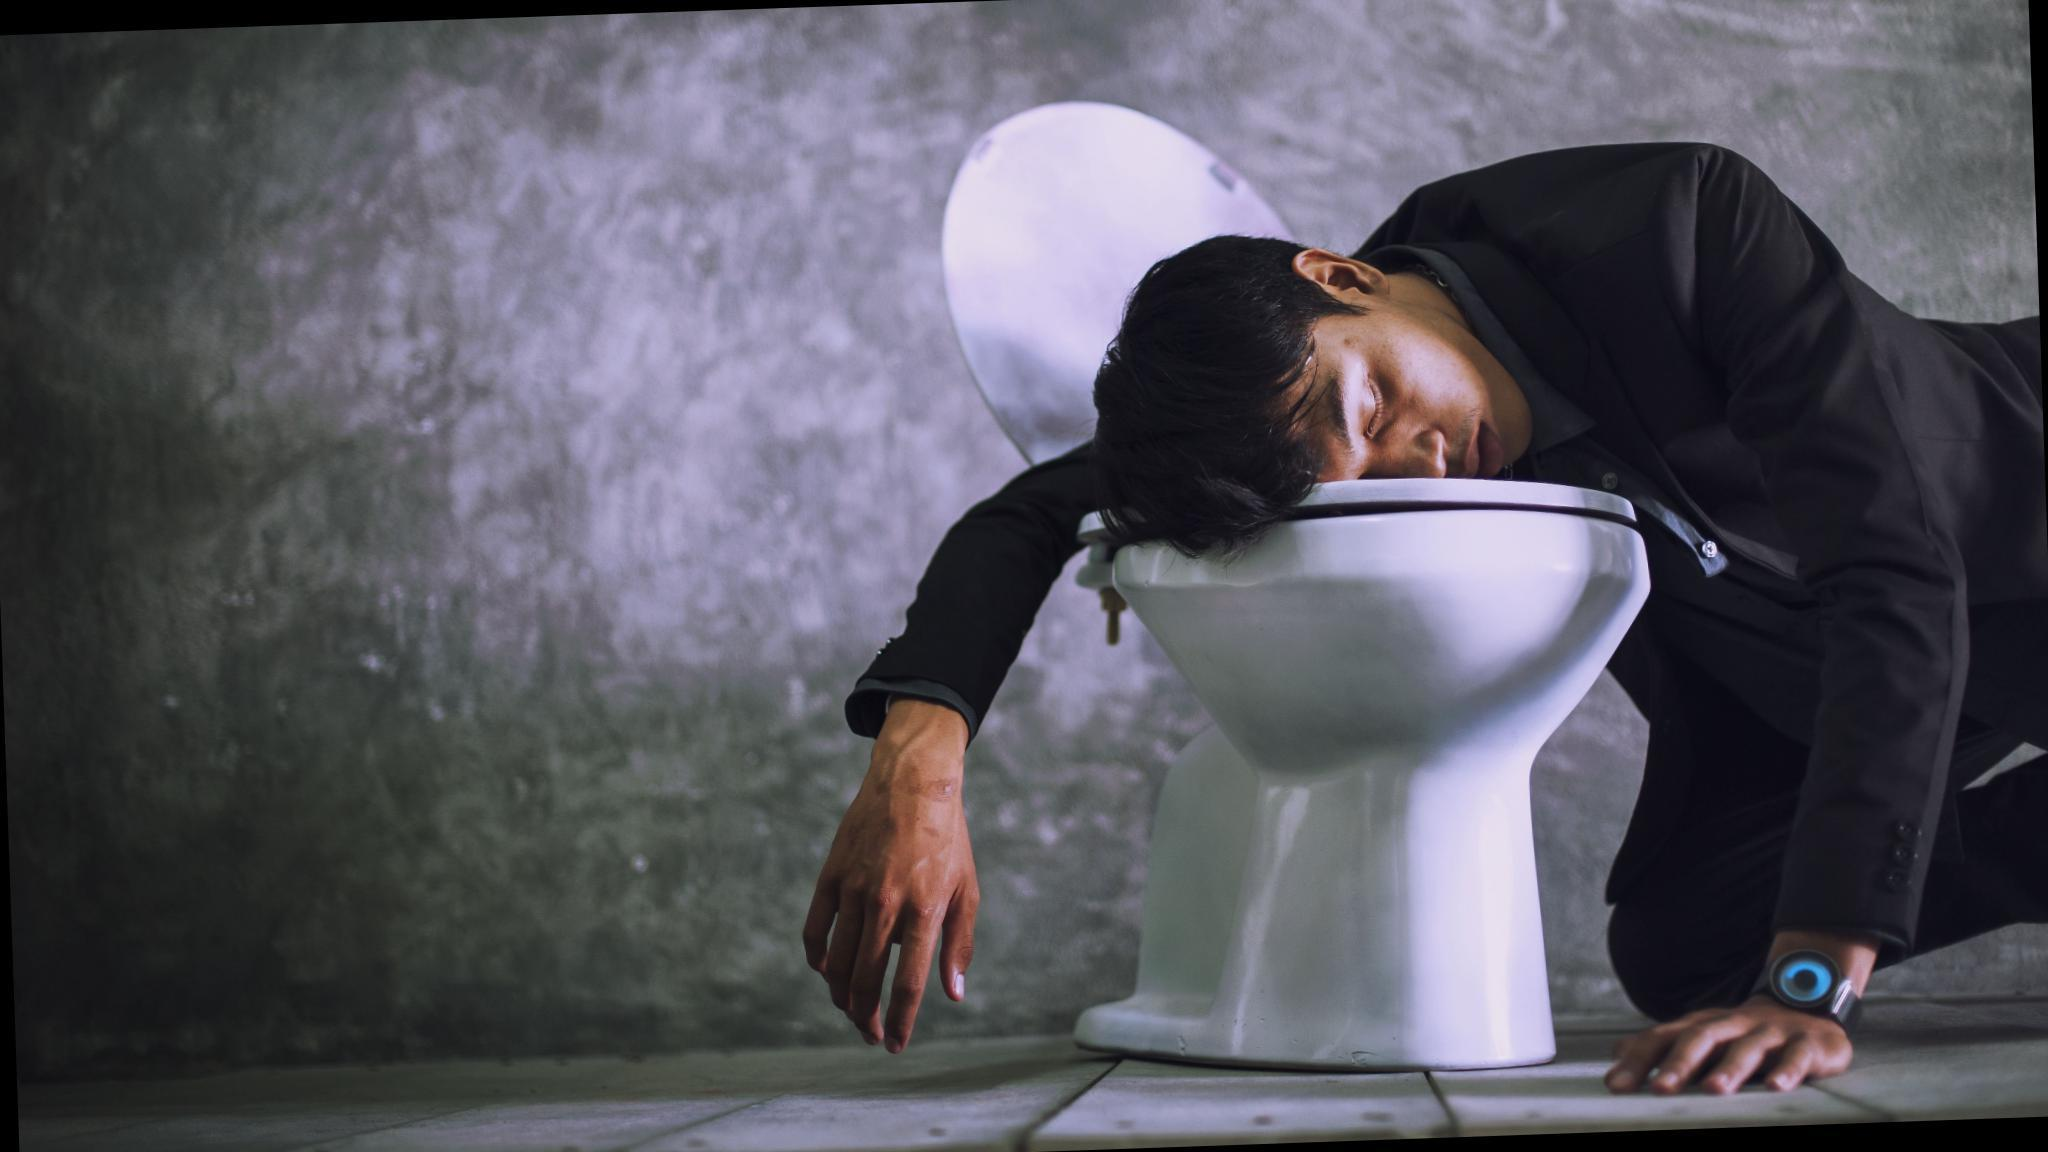Drunk: (1253, 302, 1530, 499)
